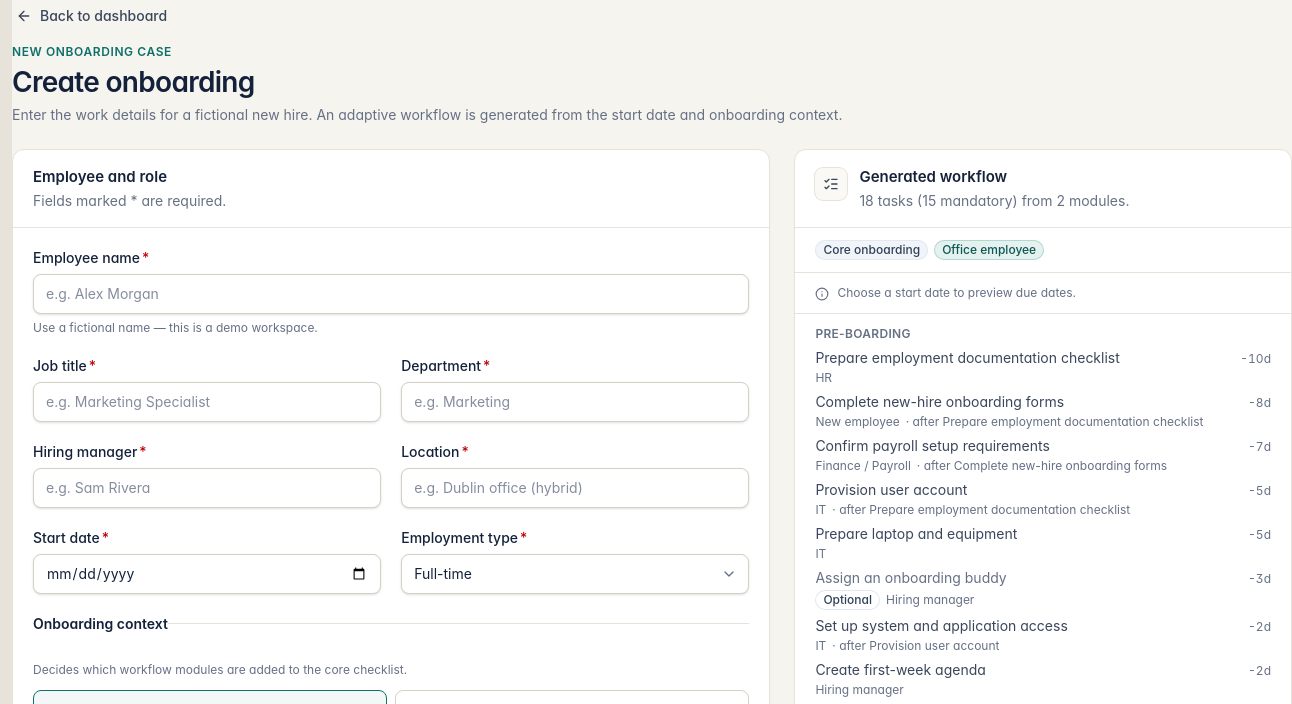
Test: NewOnboardingForm › previews due dates once a start date is chosen
Expected: the text "Choose a start date to preview due dates." is shown, 795,273 -> 1291,314
Type "2027-01-04" into the date field labelled "Start date*" at (207, 574), box 33,554 -> 381,594
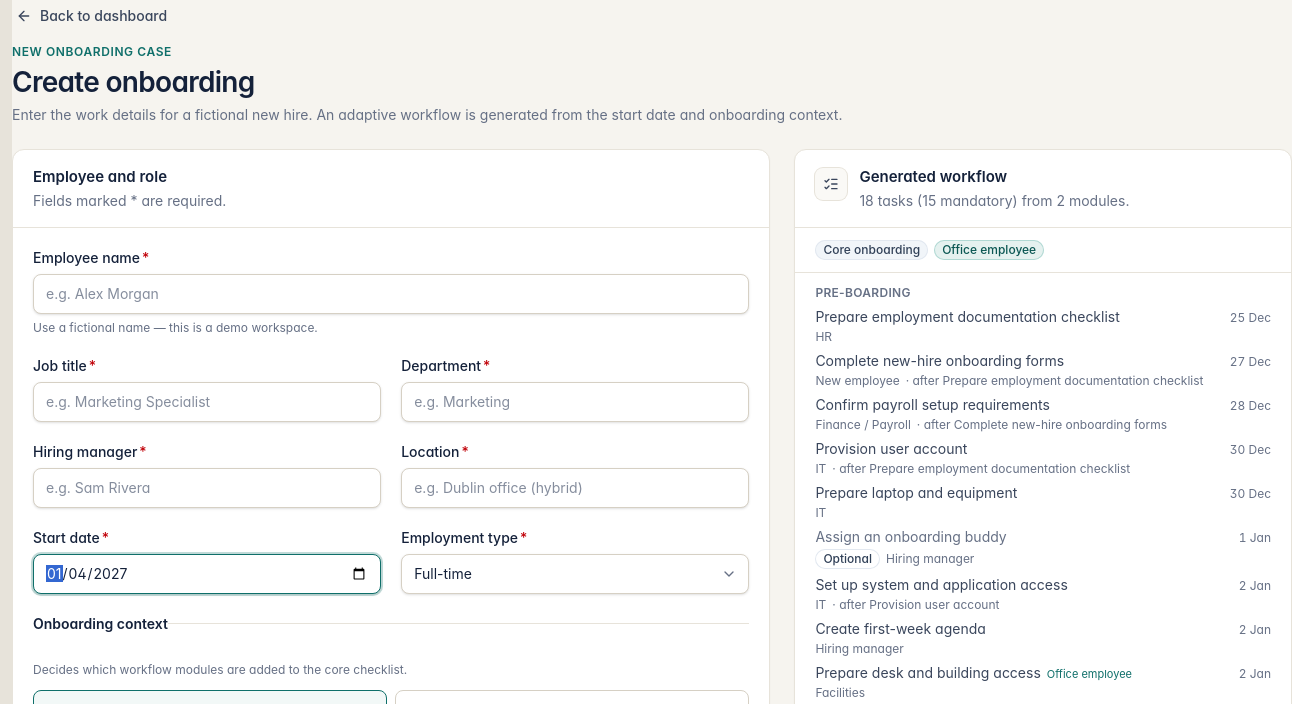
Expected: the text "Choose a start date to preview due dates." is gone
Expected: the text "25 Dec" is shown, 1230,310 -> 1271,326
